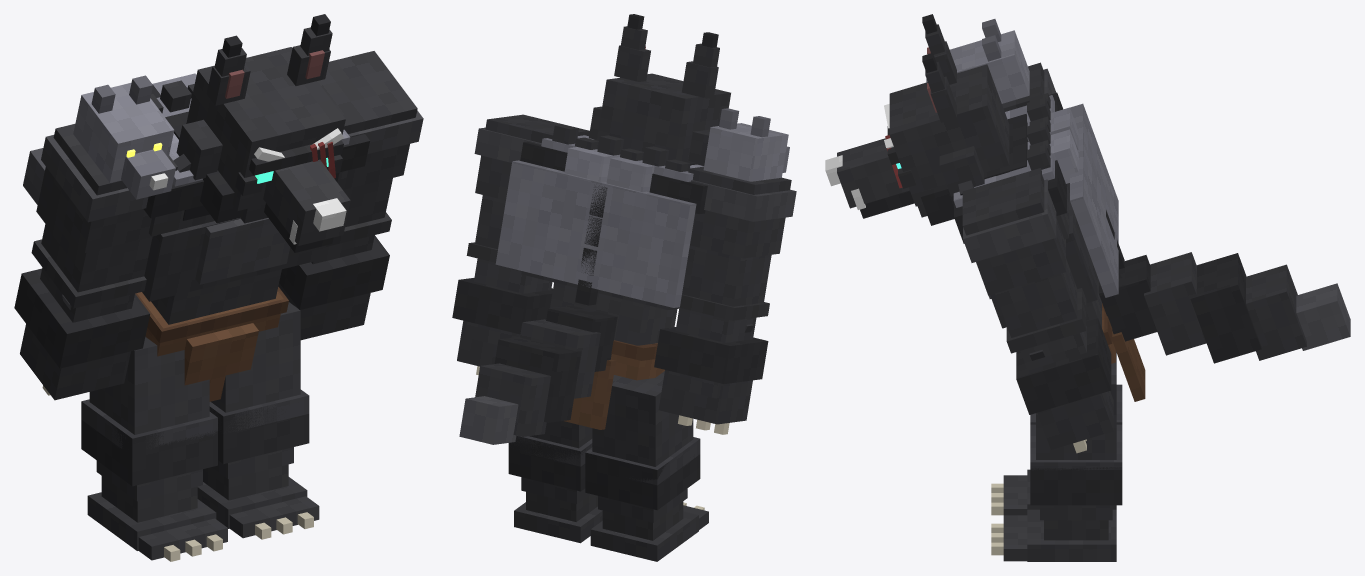
Rendered from ulric.glb.
The picture shows the model from 3 angles, left to right: view 1: azimuth 30°, elevation 25°; view 2: azimuth 150°, elevation 25°; view 3: azimuth 270°, elevation 25°; orthographic projection. The views are drawn at different scales.
Visible parts, largest first — view 1: ArmR, Head, Torso, LegR, ArmL, LegL, Root; view 2: Torso, ArmR, LegR, ArmL, Head, LegL; view 3: Torso, ArmL, Head, LegL, ArmR, LegR, Root.
Part boxes in pixels (box(x1,y1,x2,y2)): ArmR: box(14, 75, 177, 400); Head: box(165, 14, 350, 252); Torso: box(23, 73, 369, 401); LegR: box(81, 337, 227, 560); ArmL: box(278, 51, 423, 340); LegL: box(197, 302, 319, 538); Root: box(164, 512, 313, 561); Torso: box(459, 124, 707, 444); ArmR: box(654, 108, 796, 434); LegR: box(585, 371, 708, 561); ArmL: box(452, 114, 589, 375); Head: box(585, 14, 730, 165); LegL: box(508, 421, 602, 543); Torso: box(953, 92, 1350, 401); ArmL: box(962, 168, 1113, 453); Head: box(825, 14, 1028, 225); LegL: box(1003, 351, 1122, 561); ArmR: box(926, 19, 1056, 111); LegR: box(1003, 384, 1122, 515); Root: box(991, 483, 1003, 555).
Size of the model in its own units: 1.24 by 1.94 by 1.89.
32 materials, 32 textured.
